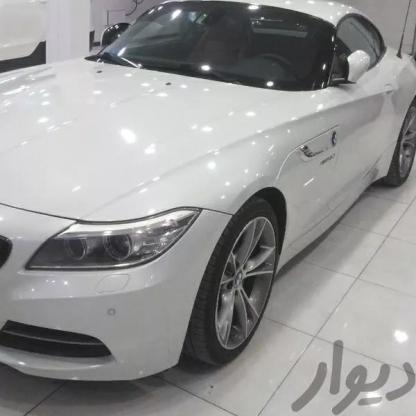Car: (0, 0, 416, 378)
